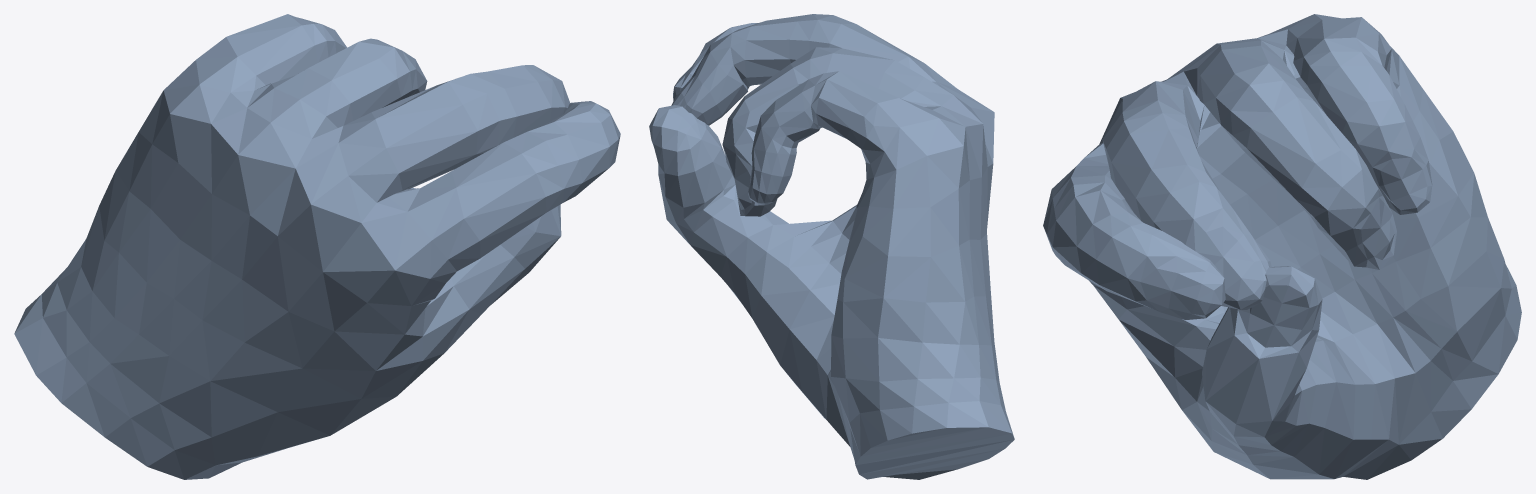
3 views of the same model, side by side, from view 1: azimuth 30°, elevation 25°; view 2: azimuth 150°, elevation 25°; view 3: azimuth 270°, elevation 25° (orthographic). The views are drawn at different scales.
Bounding box in the file's own units: 0.131 × 0.1166 × 0.1041.
